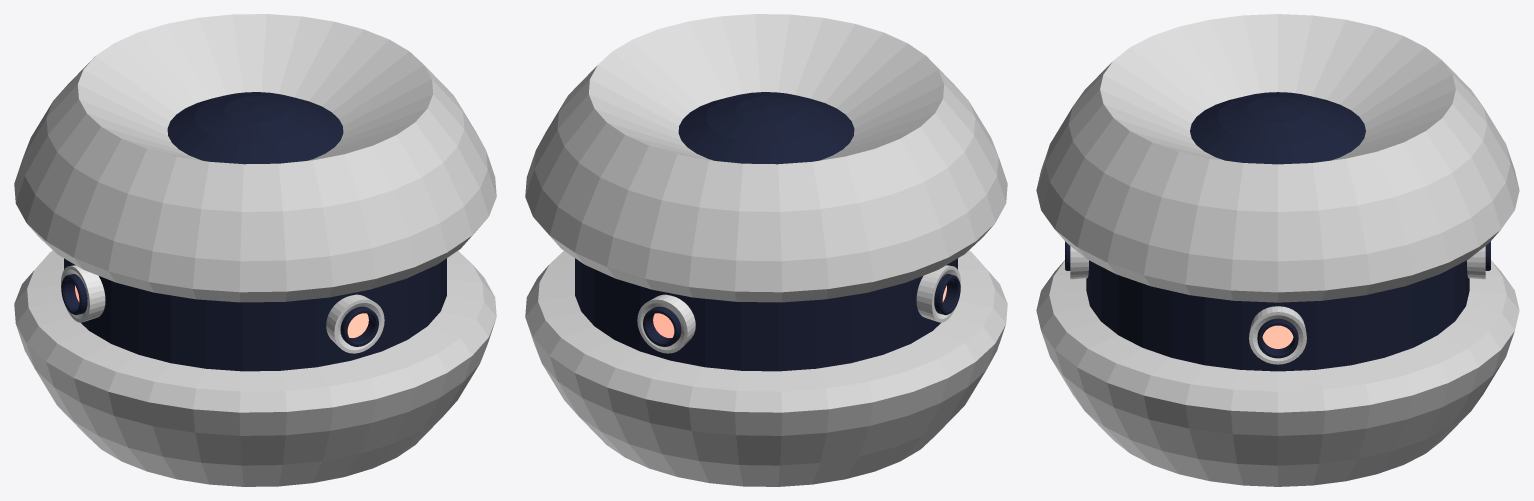
Rendered from Enemy_Robot_2_hovering.fbx.
3 views of the same model, side by side, from view 1: azimuth 30°, elevation 25°; view 2: azimuth 150°, elevation 25°; view 3: azimuth 270°, elevation 25° (orthographic).
Parts seen in each view (by area): view 1: Sphere, Cylinder.001, Cylinder; view 2: Sphere, Cylinder.001, Cylinder; view 3: Sphere, Cylinder, Cylinder.001.
Boxes of the visible parts, x1,y1,x2,y2 form: Sphere: (14, 14, 496, 486); Cylinder.001: (326, 294, 384, 353); Cylinder: (61, 265, 105, 322); Sphere: (525, 14, 1007, 486); Cylinder.001: (637, 294, 695, 353); Cylinder: (916, 265, 960, 322); Sphere: (1036, 14, 1519, 486); Cylinder: (1249, 306, 1306, 364); Cylinder.001: (1065, 241, 1490, 279).
Size of the model in its own units: 96 by 70.71 by 96.
